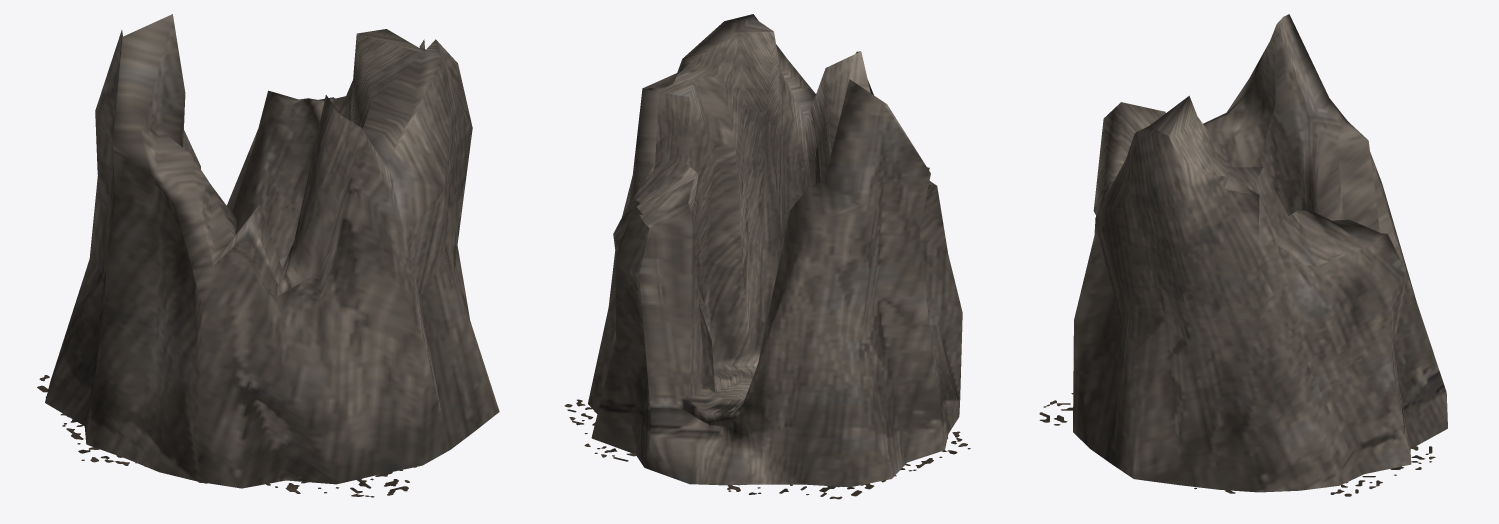
File: stump_hollow.glb
3 renders of one model, left to right at view 1: azimuth 30°, elevation 25°; view 2: azimuth 150°, elevation 25°; view 3: azimuth 270°, elevation 25°, orthographic. The views are drawn at different scales.
Visible parts, largest first — view 1: stump_hollow; view 2: stump_hollow; view 3: stump_hollow.
Part boxes in pixels (x1,y1,x2,y2): stump_hollow: [37, 14, 499, 497]; stump_hollow: [564, 14, 970, 499]; stump_hollow: [1039, 14, 1447, 496].
Bounding box in the file's own units: 1.01 × 0.9018 × 1.01.
2 materials, 2 textured.
